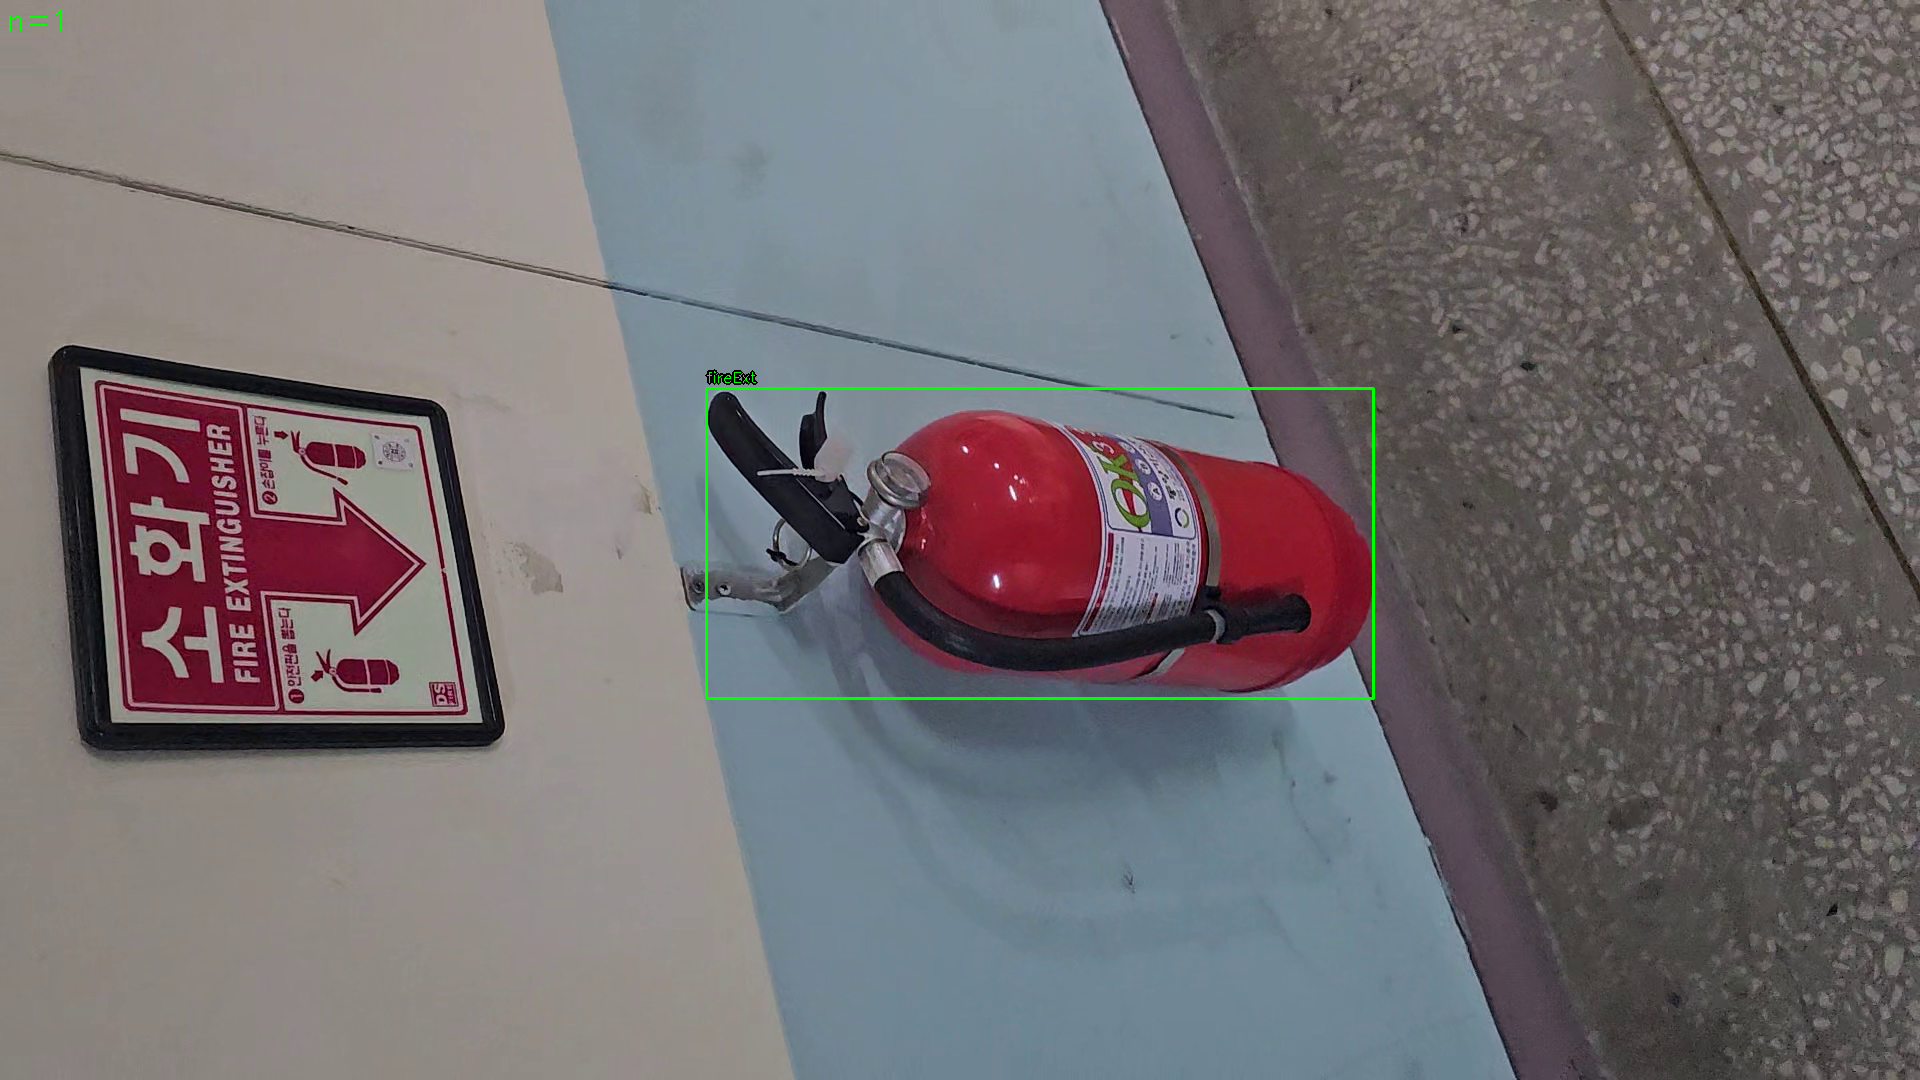lane: (705, 388, 1374, 699)
